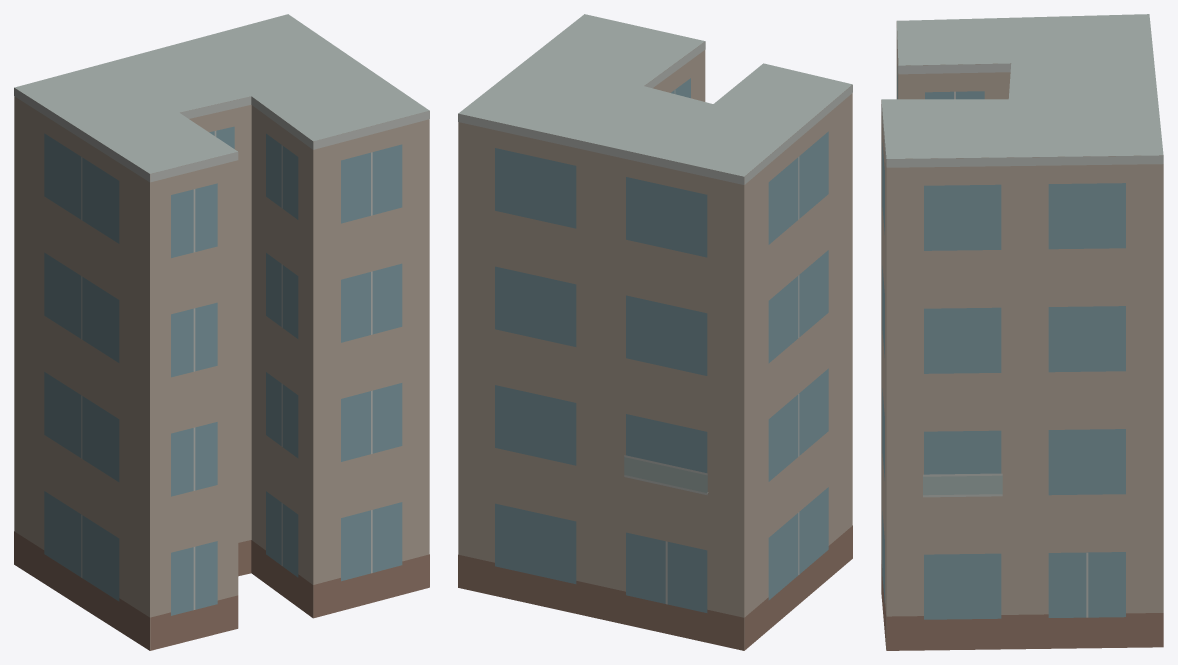
Rendered from survey-upis-32472277.glb.
3 views of the same model, side by side, from view 1: azimuth 30°, elevation 25°; view 2: azimuth 150°, elevation 25°; view 3: azimuth 270°, elevation 25° (orthographic). The views are drawn at different scales.
Parts seen in each view (by area): view 1: survey-upis-32472277.tmp; view 2: survey-upis-32472277.tmp; view 3: survey-upis-32472277.tmp.
Part boxes in pixels (box(x1,y1,x2,y2)): survey-upis-32472277.tmp: box(14, 14, 429, 650); survey-upis-32472277.tmp: box(458, 14, 852, 650); survey-upis-32472277.tmp: box(881, 14, 1163, 650).
Size of the model in its own units: 8.68 by 13.7 by 7.13.
